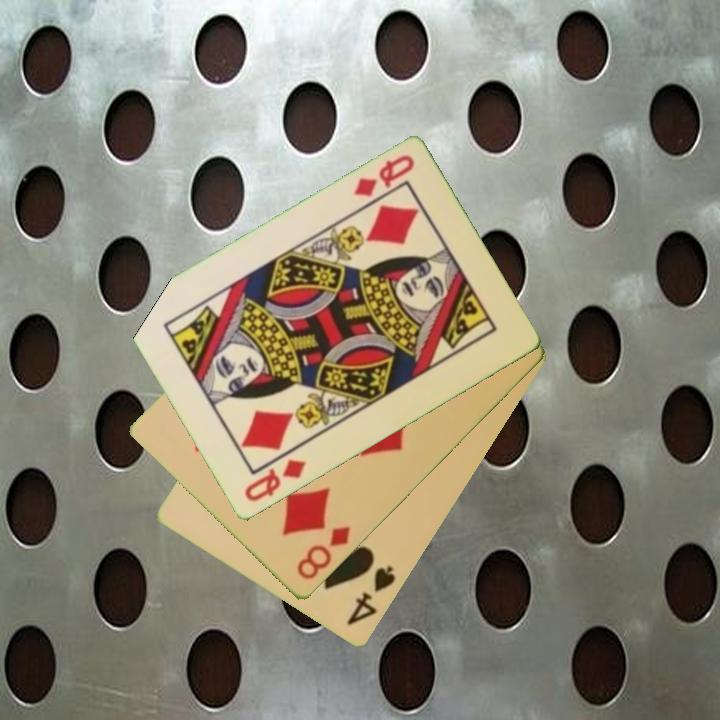4s: (343, 562, 399, 629)
8d: (293, 523, 354, 583)
Qd: (240, 456, 310, 506), (349, 152, 418, 201)
